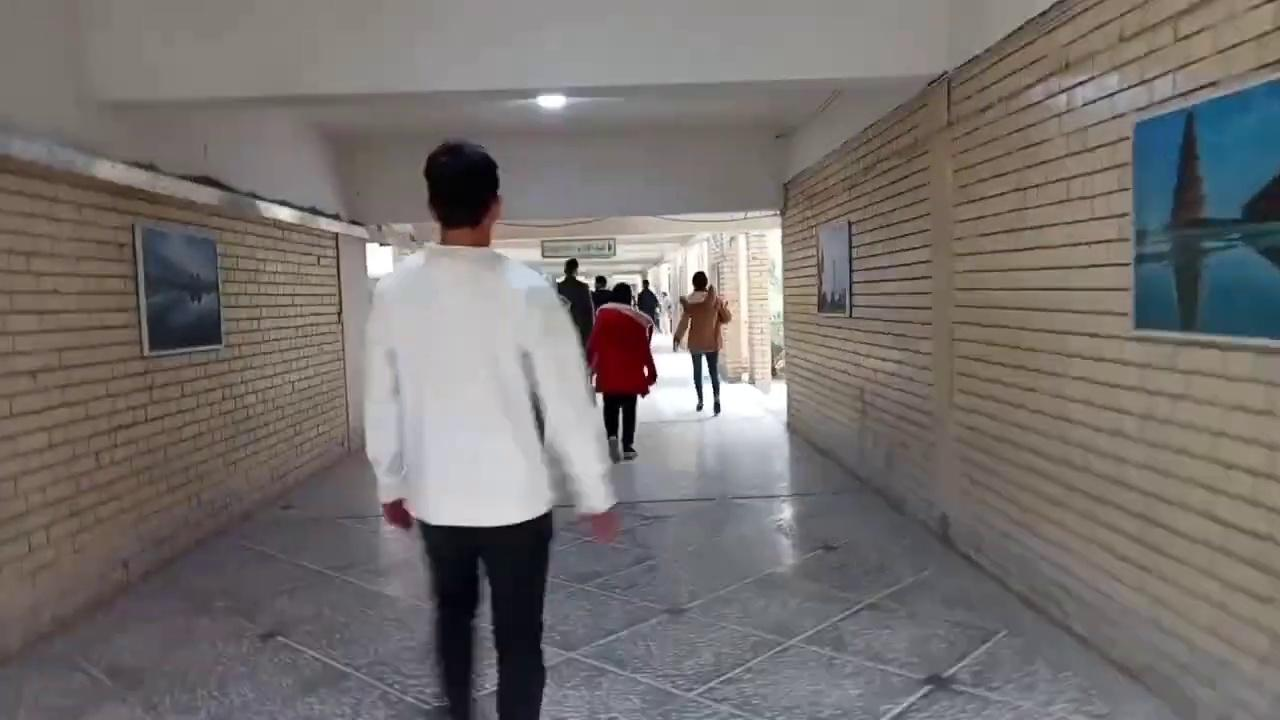person: (361, 140, 619, 719), (584, 281, 657, 461), (672, 270, 732, 415), (556, 257, 594, 347), (636, 279, 659, 339), (590, 274, 611, 314), (658, 291, 673, 334)
tree: (767, 258, 782, 378), (707, 232, 729, 299)
